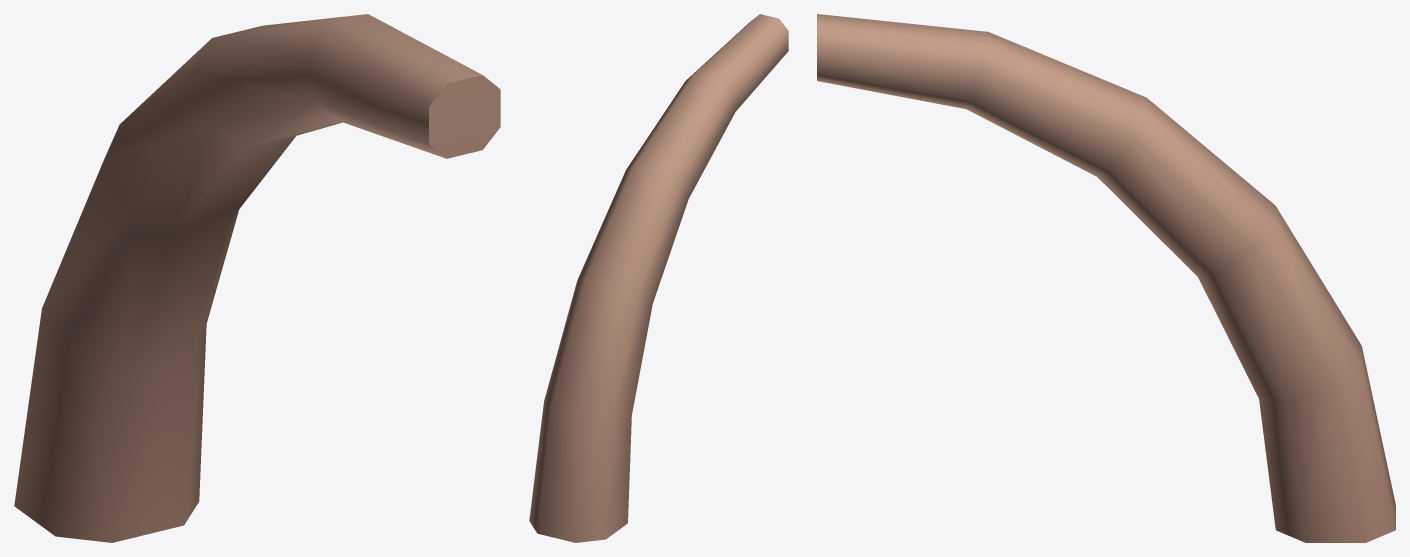
Rendered from organic-twig-curved-large-b.glb.
The picture shows the model from 3 angles, left to right: view 1: azimuth 30°, elevation 25°; view 2: azimuth 150°, elevation 25°; view 3: azimuth 270°, elevation 25°; orthographic projection. The views are drawn at different scales.
Visible parts, largest first — view 1: organic-twig-curved-large-b; view 2: organic-twig-curved-large-b; view 3: organic-twig-curved-large-b.
Boxes of the visible parts, left/top/right/bottom form: organic-twig-curved-large-b: left=14, top=14, right=500, bottom=542; organic-twig-curved-large-b: left=529, top=14, right=788, bottom=542; organic-twig-curved-large-b: left=817, top=14, right=1395, bottom=542.
Size of the model in its own units: 0.05 by 0.2285 by 0.241.
